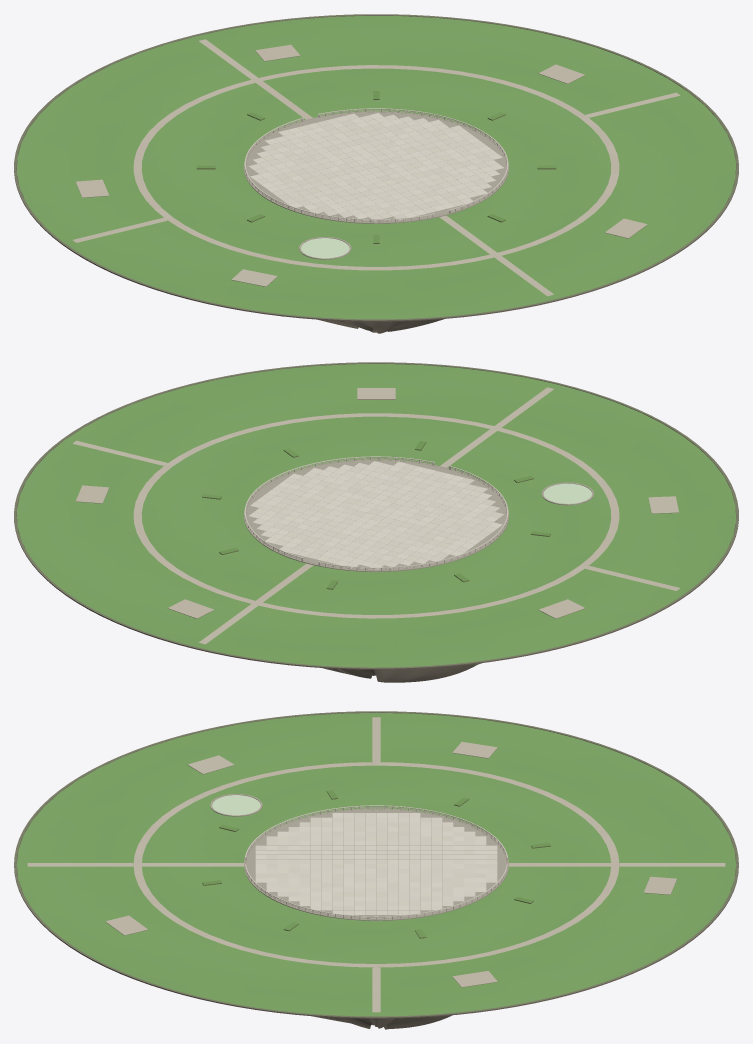
File: lib_dao_vua.glb
The picture shows the model from 3 angles, top to bottom: view 1: azimuth 30°, elevation 25°; view 2: azimuth 150°, elevation 25°; view 3: azimuth 270°, elevation 25°; orthographic projection.
Visible parts, largest first — view 1: dao_vua_san_vuon_ho, dao_vua_day_da, dao_vua_lan_can; view 2: dao_vua_san_vuon_ho, dao_vua_day_da, dao_vua_lan_can; view 3: dao_vua_san_vuon_ho, dao_vua_day_da, dao_vua_lan_can.
Part boxes in pixels (bbox=[...]): dao_vua_san_vuon_ho: bbox=[17, 16, 735, 319]; dao_vua_day_da: bbox=[14, 14, 738, 333]; dao_vua_lan_can: bbox=[244, 108, 508, 222]; dao_vua_san_vuon_ho: bbox=[17, 364, 735, 667]; dao_vua_day_da: bbox=[14, 362, 738, 682]; dao_vua_lan_can: bbox=[244, 456, 508, 570]; dao_vua_san_vuon_ho: bbox=[16, 712, 736, 1016]; dao_vua_day_da: bbox=[14, 711, 738, 1029]; dao_vua_lan_can: bbox=[245, 805, 507, 919].
Bounding box in the file's own units: 264 × 64.81 × 264.
